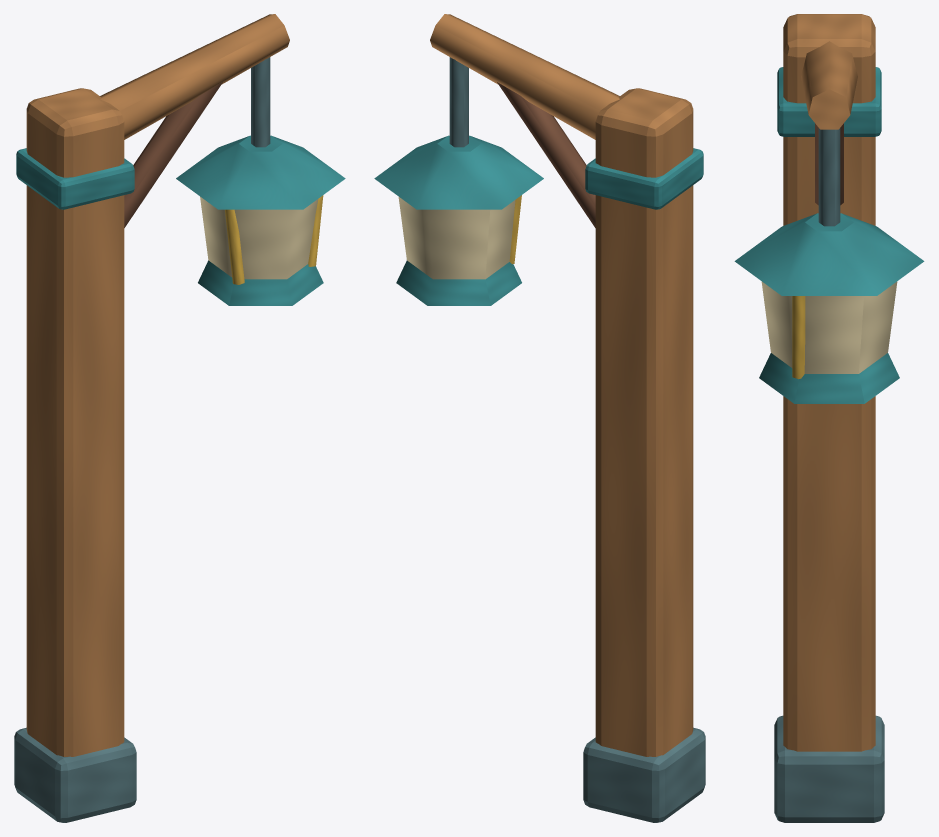
The model's file is camp-lamp.glb.
The picture shows the model from 3 angles, left to right: view 1: azimuth 30°, elevation 25°; view 2: azimuth 150°, elevation 25°; view 3: azimuth 270°, elevation 25°; orthographic projection. The views are drawn at different scales.
Visible parts, largest first — view 1: camp-lamp-mesh; view 2: camp-lamp-mesh; view 3: camp-lamp-mesh.
Part boxes in pixels (x1,y1,x2,y2): camp-lamp-mesh: (14,14,345,822); camp-lamp-mesh: (374,14,705,822); camp-lamp-mesh: (734,14,924,822).
Size of the model in its own units: 1.22 by 2.97 by 0.62.
Materials: 1 (1 with a texture image).
